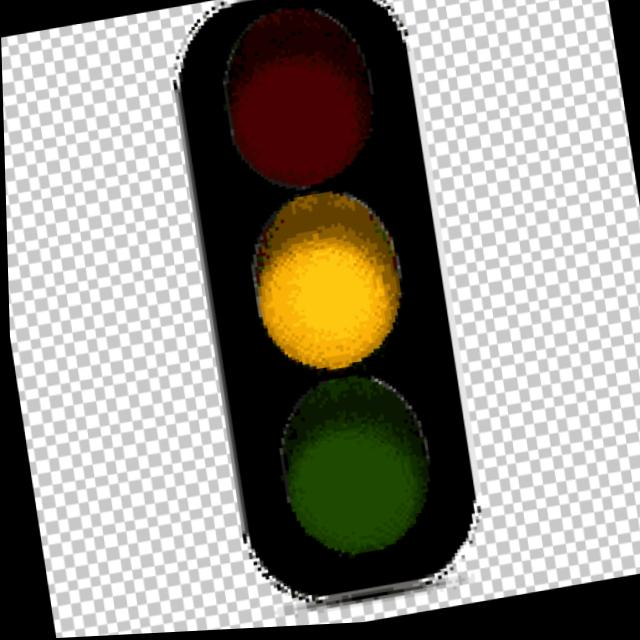green_light: (216, 374, 454, 577)
red_light: (172, 0, 398, 200)
yellow_light: (187, 168, 437, 427)
